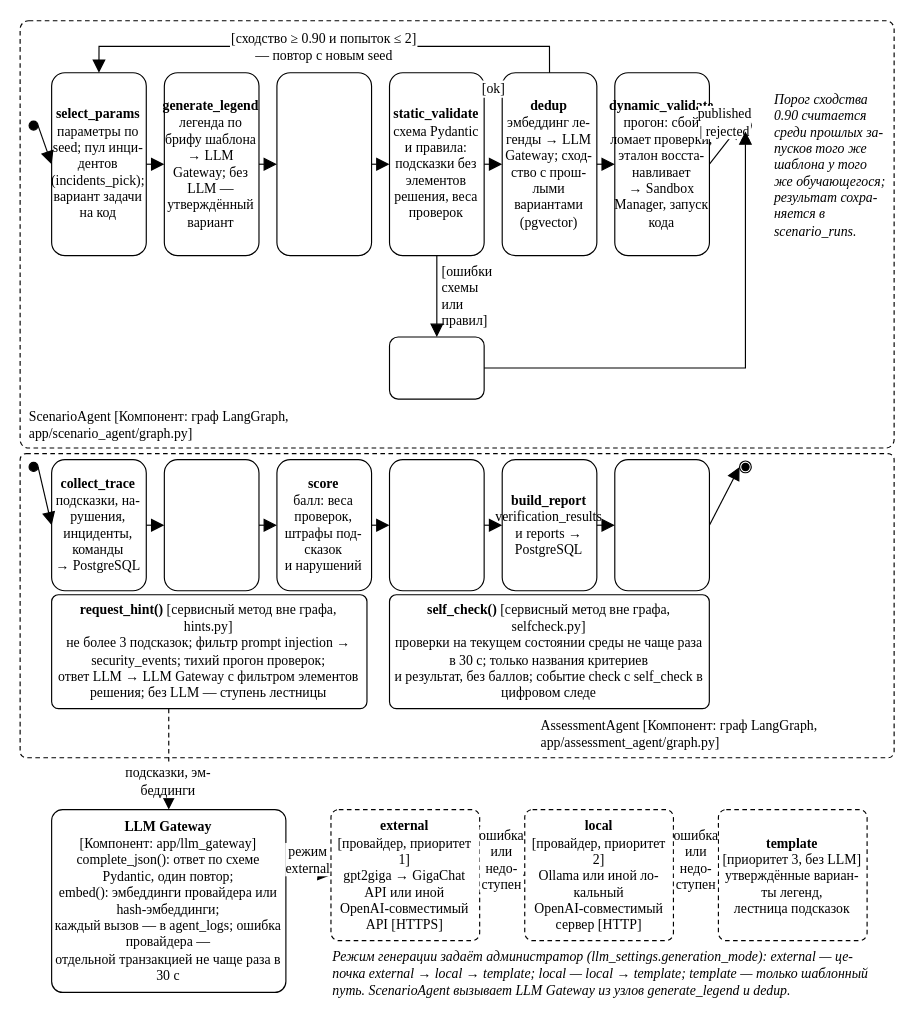
This 914x1024 diagram has some shape labels left out. Each missing label, with the centre of its shape:
"assemble_spec сборка спе­ци­фи­ка­ции ва­ри­ан­та" belongs at (x=324, y=164).
"cleanup уда­ле­ние учеб­ной среды → Sandbox Manager" belongs at (x=661, y=525).
"reject status = rejected" belongs at (x=436, y=367).
"run_checks про­вер­ки сце­на­рия → Verification Engine (среда, ответ или код)" belongs at (x=211, y=525).
"update_profile уровни на­вы­ков → ProfileAgent.apply_result" belongs at (x=436, y=525).
